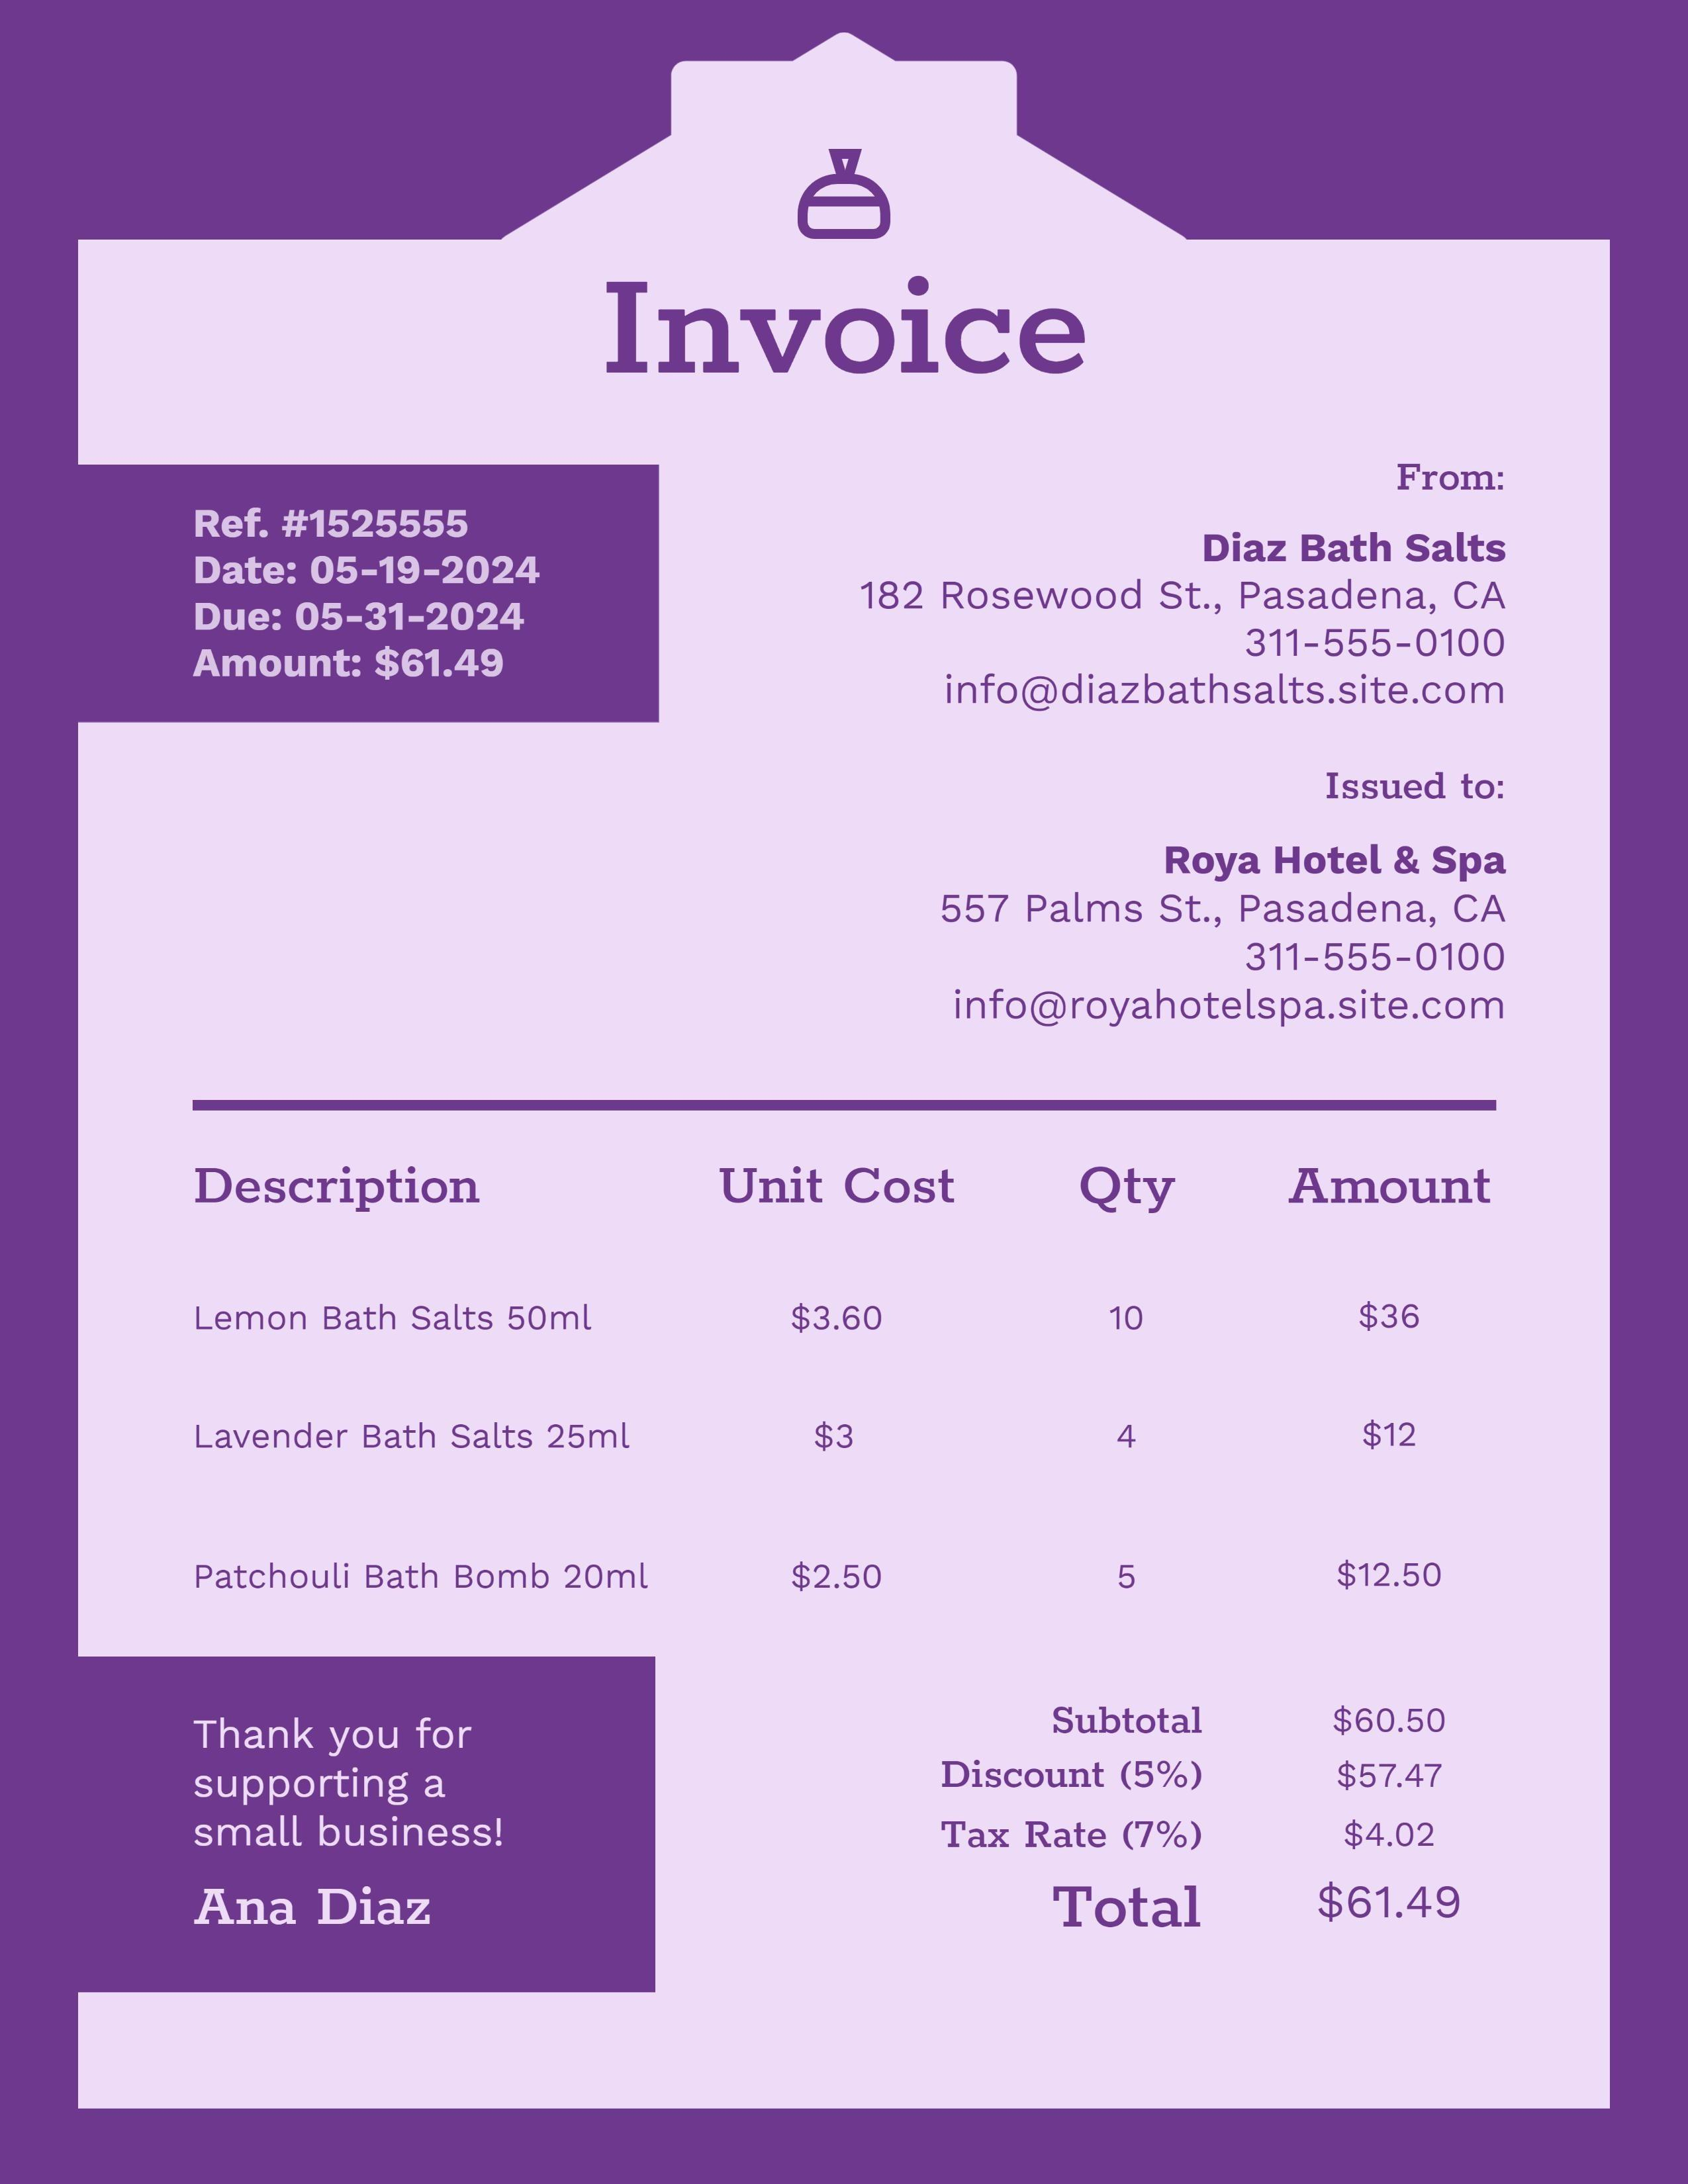ROI: (183, 1131, 1500, 1629), (846, 438, 1523, 730), (917, 755, 1518, 1048), (929, 1672, 1481, 1962), (170, 486, 615, 688)
